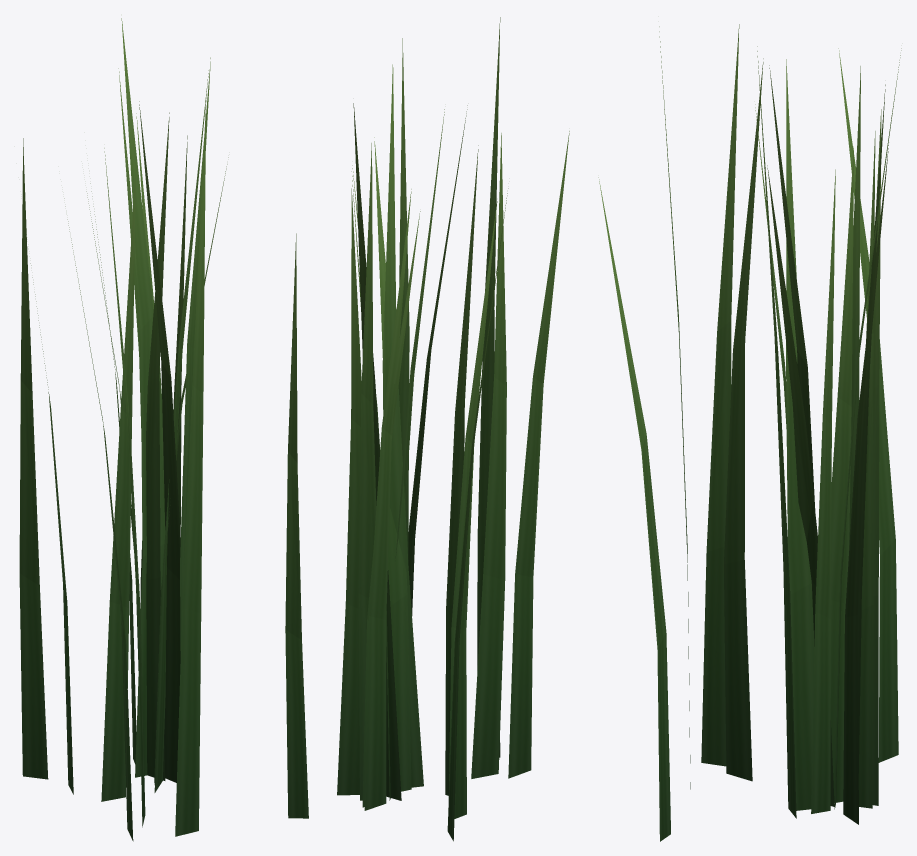
Rendered from forest_grass_002_a_LOD1.gltf.
The picture shows the model from 3 angles, left to right: view 1: azimuth 30°, elevation 25°; view 2: azimuth 150°, elevation 25°; view 3: azimuth 270°, elevation 25°; orthographic projection. The views are drawn at different scales.
Visible parts, largest first — view 1: forest_grass_002_a_LOD1; view 2: forest_grass_002_a_LOD1; view 3: forest_grass_002_a_LOD1.
Part boxes in pixels (box(x1,y1,x2,y2)): forest_grass_002_a_LOD1: box(19, 18, 308, 841); forest_grass_002_a_LOD1: box(337, 17, 569, 841); forest_grass_002_a_LOD1: box(598, 24, 901, 841).
Bounding box in the file's own units: 0.1371 × 0.4569 × 0.1626.
Materials: 1 (1 with a texture image).
